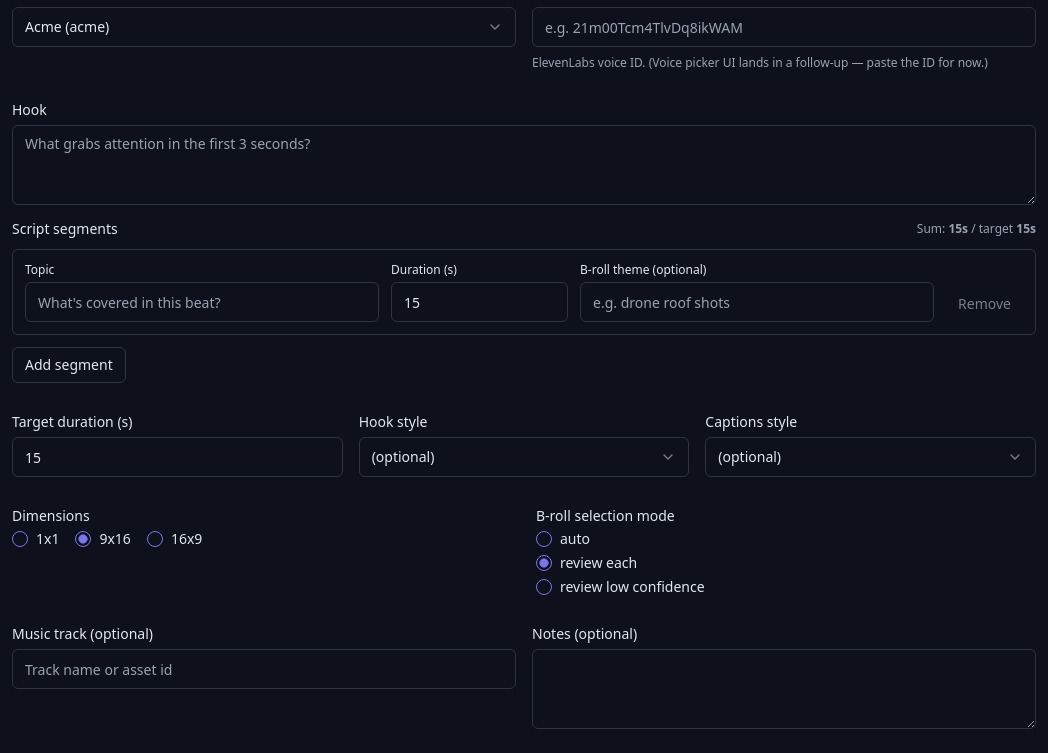
Test: VideoBriefForm › falls back to 'Request failed (status)' on non-JSON error body
Type "intro" into the field labelled "Topic" at (202, 302), box [25, 282, 379, 322]
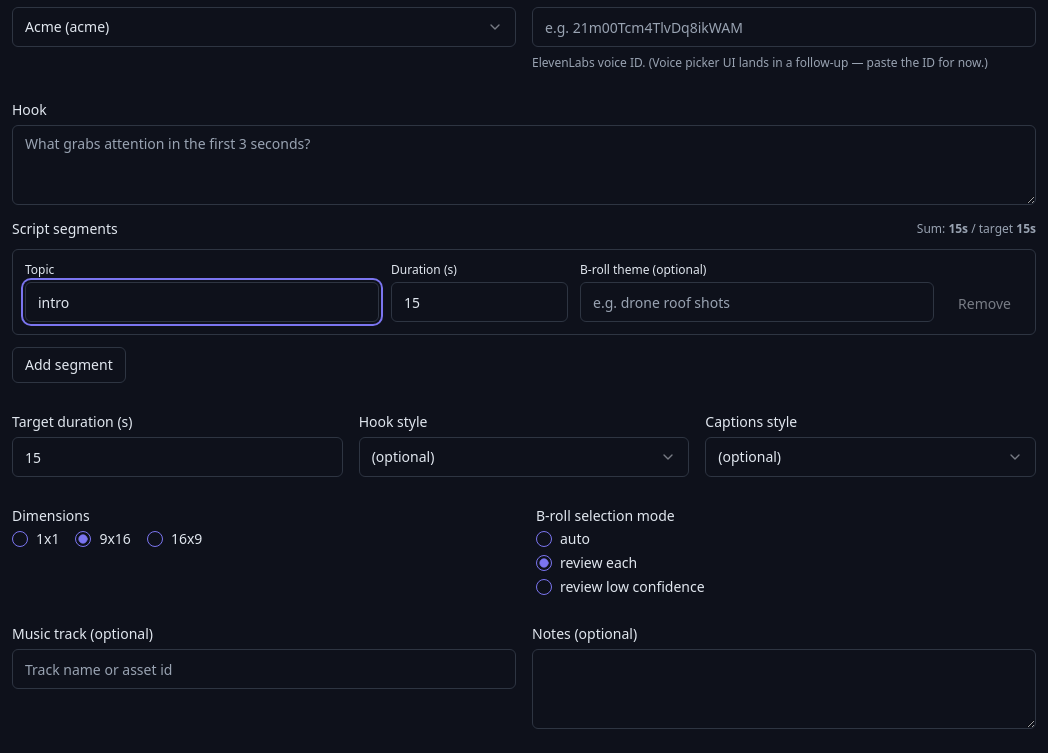
Type "voice-abc" into the field labelled "Voice ID" at (784, 27), box [532, 7, 1036, 47]
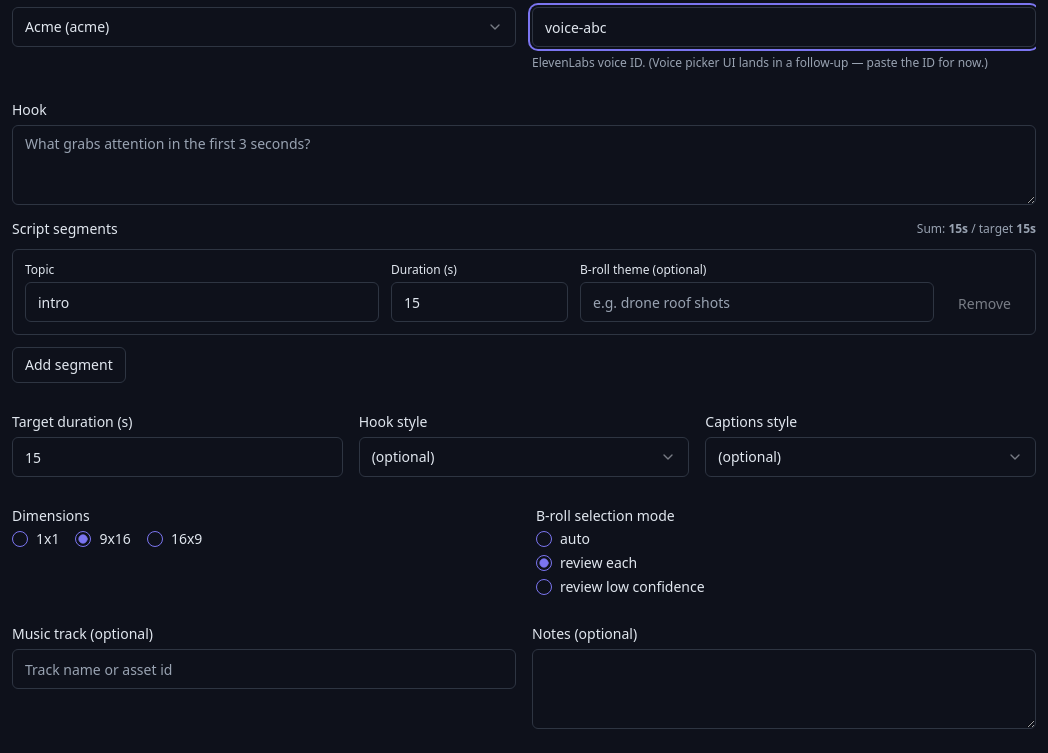
Type "Stop scrolling now" into the text box labelled "Hook" at (524, 165), box [12, 125, 1036, 205]
(page scrolled)
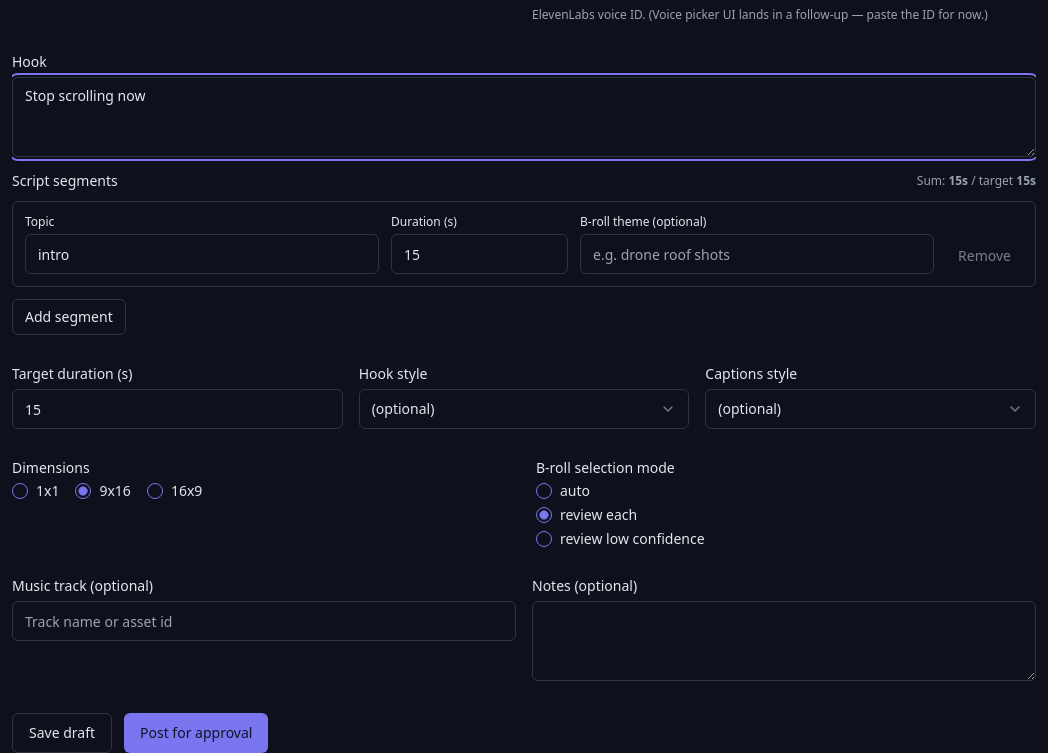
Click the button "Save draft" at (62, 733), box [12, 713, 112, 752]
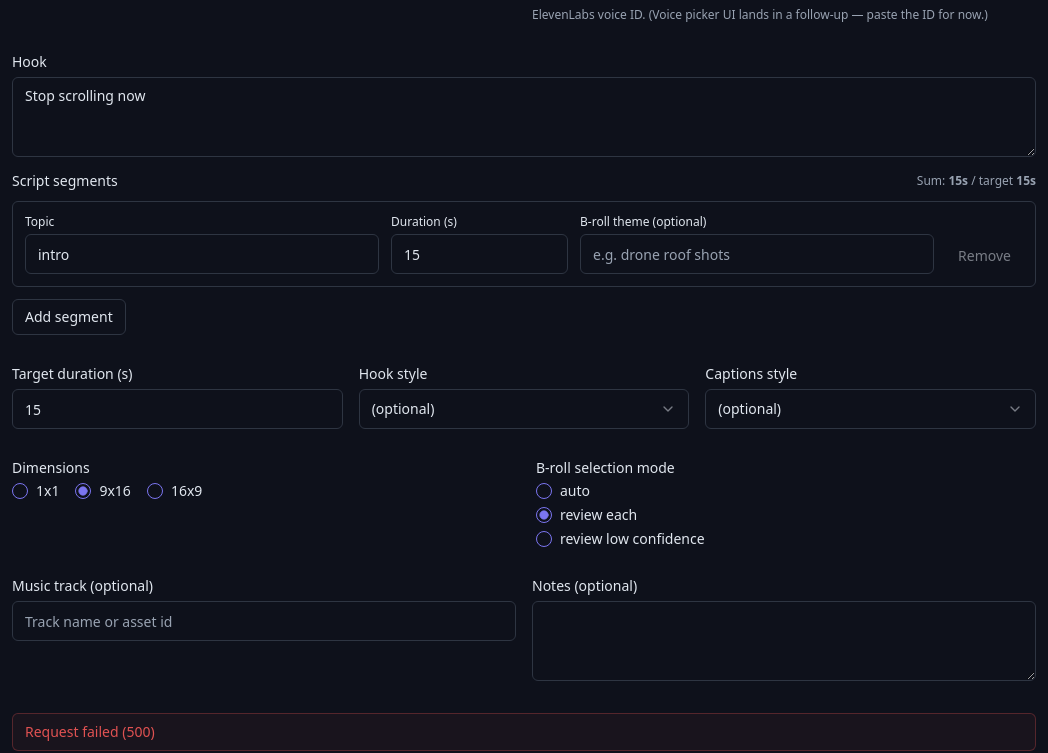
Expected: the text "Request failed (500)" is shown, [12, 713, 1036, 751]
